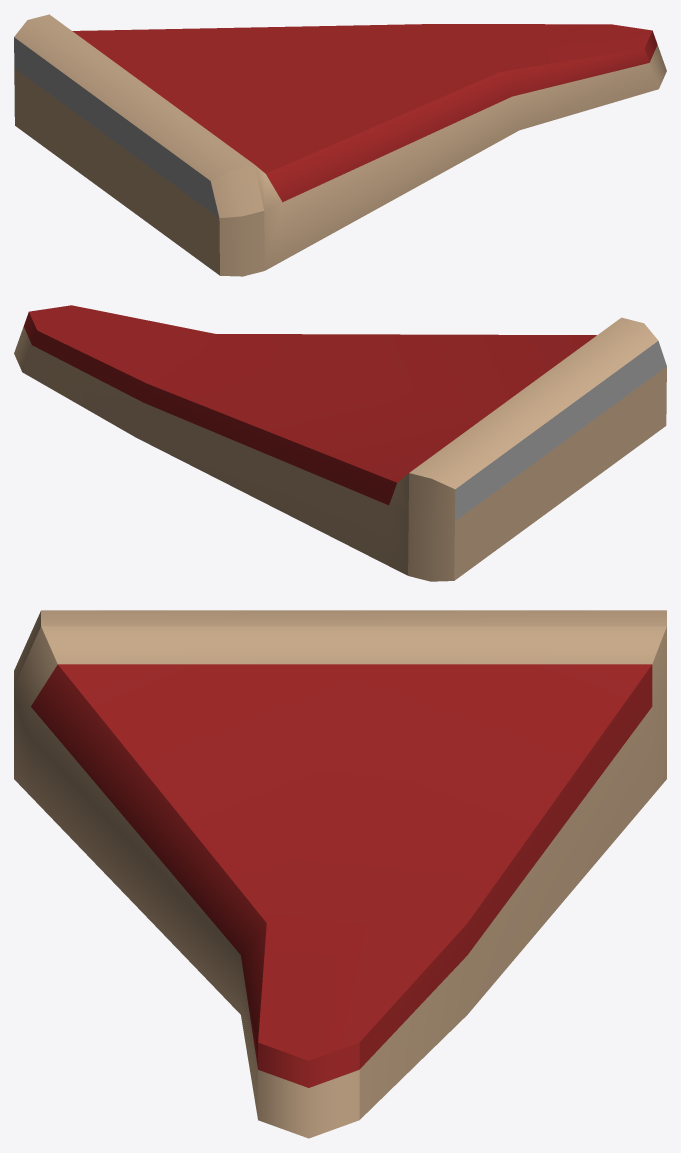
File: geo_pointePizza.fbx
3 renders of one model, top to bottom at view 1: azimuth 30°, elevation 25°; view 2: azimuth 150°, elevation 25°; view 3: azimuth 270°, elevation 25°, orthographic. The views are drawn at different scales.
Visible parts, largest first — view 1: geo_pointepizza; view 2: geo_pointepizza; view 3: geo_pointepizza.
Part boxes in pixels (<box>): geo_pointepizza: <box>14,14,666,276</box>; geo_pointepizza: <box>14,305,666,581</box>; geo_pointepizza: <box>14,610,666,1138</box>.
Bounding box in the file's own units: 30.01 × 5.32 × 20.63.
